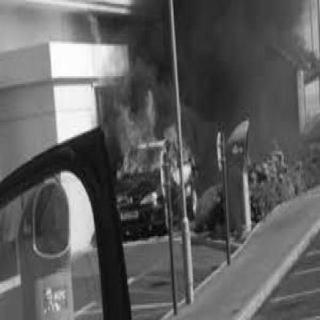Fire: (110, 83, 193, 181)
Smoke: (121, 0, 302, 118)
